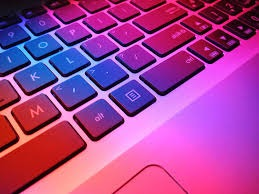keyboard: (0, 6, 259, 171)
